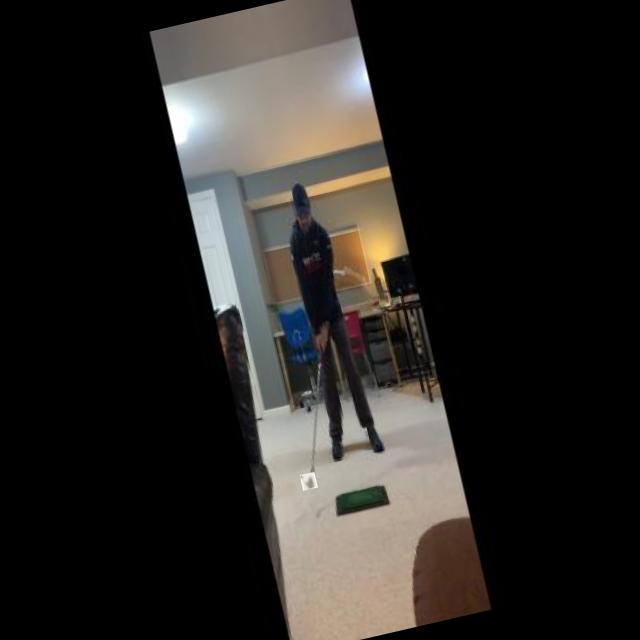club head: (300, 471, 318, 490)
